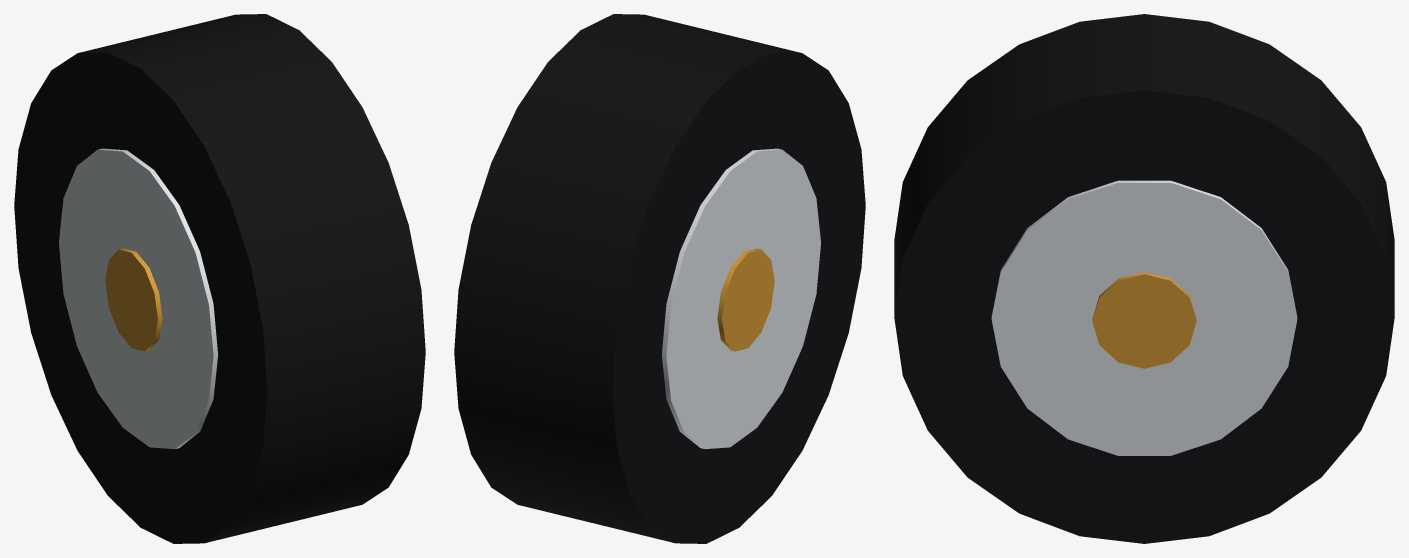
3 renders of one model, left to right at view 1: azimuth 30°, elevation 25°; view 2: azimuth 150°, elevation 25°; view 3: azimuth 270°, elevation 25°, orthographic.
Parts seen in each view (by area): view 1: LP05B_Wheel_RR_Part_01; view 2: LP05B_Wheel_RR_Part_01; view 3: LP05B_Wheel_RR_Part_01.
Boxes of the visible parts, <box> form: LP05B_Wheel_RR_Part_01: <box>14,14,425,543</box>; LP05B_Wheel_RR_Part_01: <box>454,14,865,543</box>; LP05B_Wheel_RR_Part_01: <box>894,14,1394,543</box>.
Size of the model in its own units: 0.4028 by 1 by 1.
